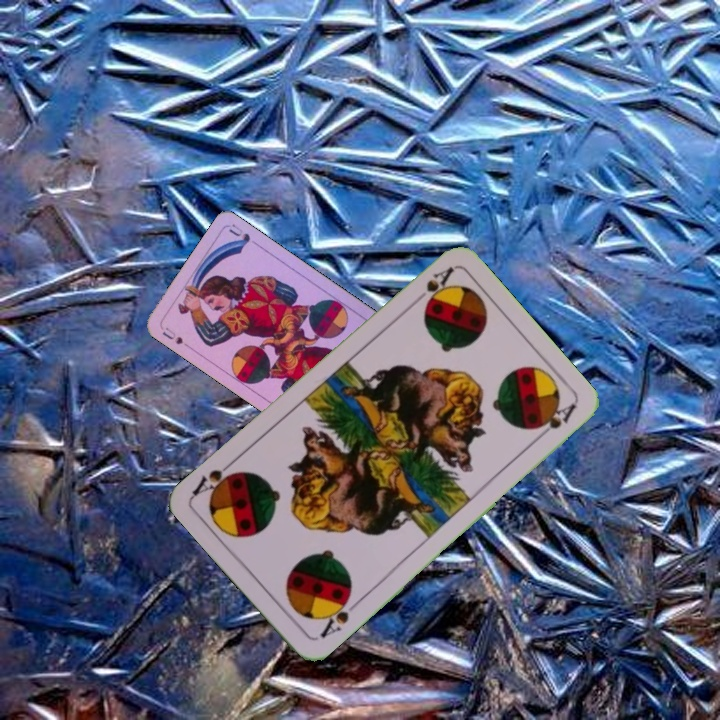SA: (407, 262, 457, 315), (316, 590, 362, 641)
SU: (158, 323, 186, 347)
